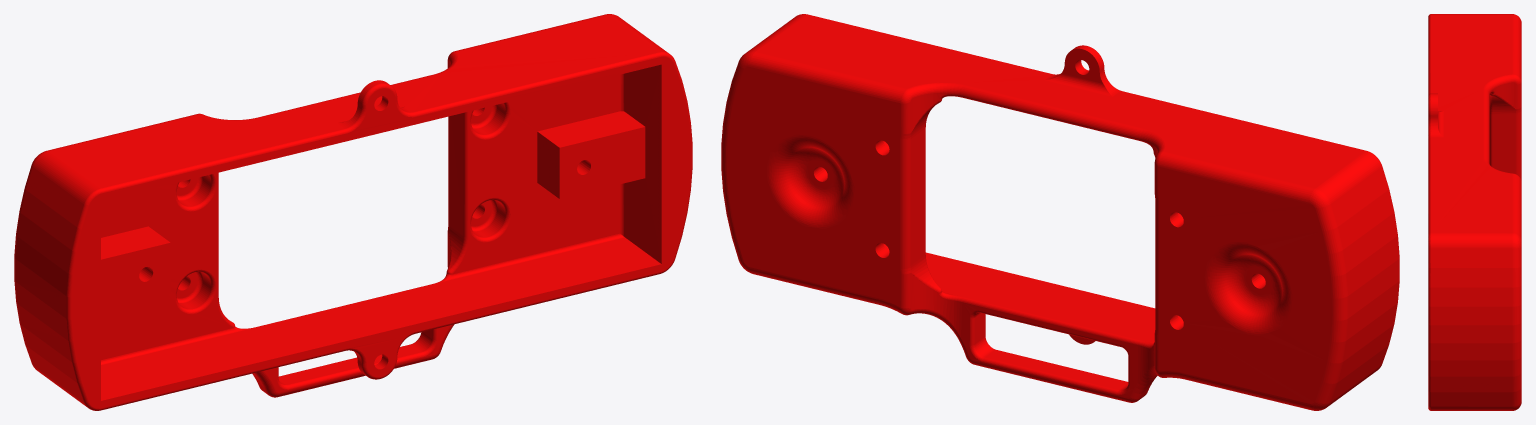
The model's file is right_arm_1_hand_1_base_1.glb.
3 renders of one model, left to right at view 1: azimuth 30°, elevation 25°; view 2: azimuth 150°, elevation 25°; view 3: azimuth 270°, elevation 25°, orthographic. The views are drawn at different scales.
Parts seen in each view (by area): view 1: right_arm_1_hand_1_base_1.obj; view 2: right_arm_1_hand_1_base_1.obj; view 3: right_arm_1_hand_1_base_1.obj.
Part boxes in pixels (x1,y1,x2,y2): right_arm_1_hand_1_base_1.obj: [14, 14, 692, 410]; right_arm_1_hand_1_base_1.obj: [721, 14, 1399, 410]; right_arm_1_hand_1_base_1.obj: [1428, 14, 1521, 410].
Size of the model in its own units: 0.1786 by 0.0855 by 0.029.
